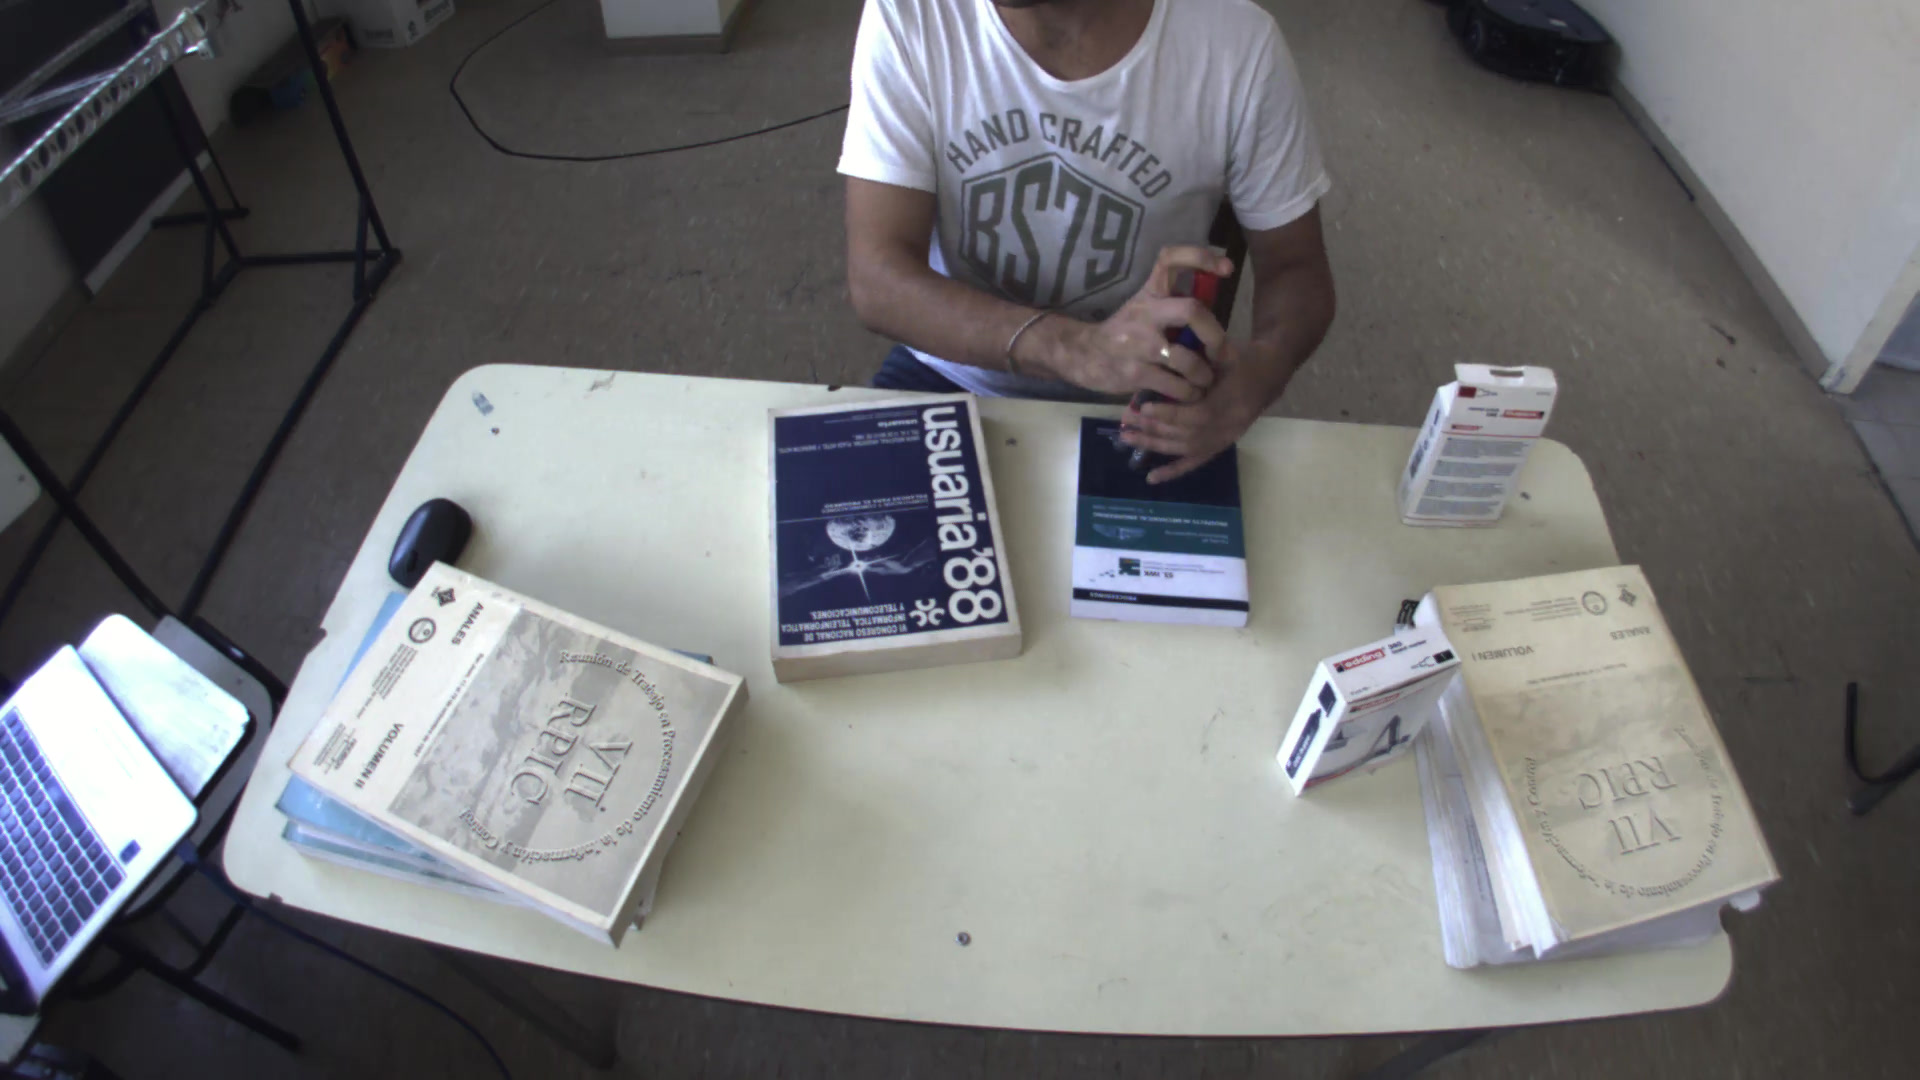hand: (1109, 243, 1247, 421), (1106, 368, 1298, 489)
